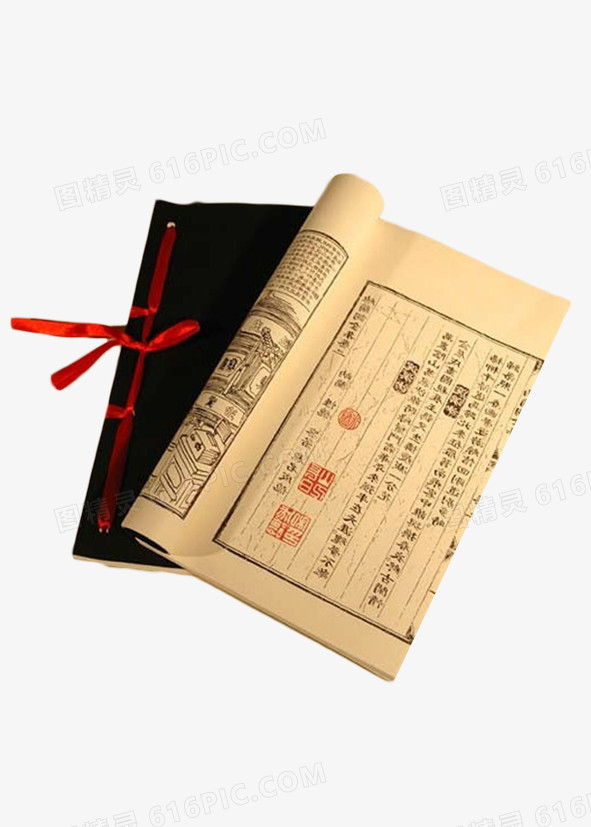book: (119, 169, 574, 678)
